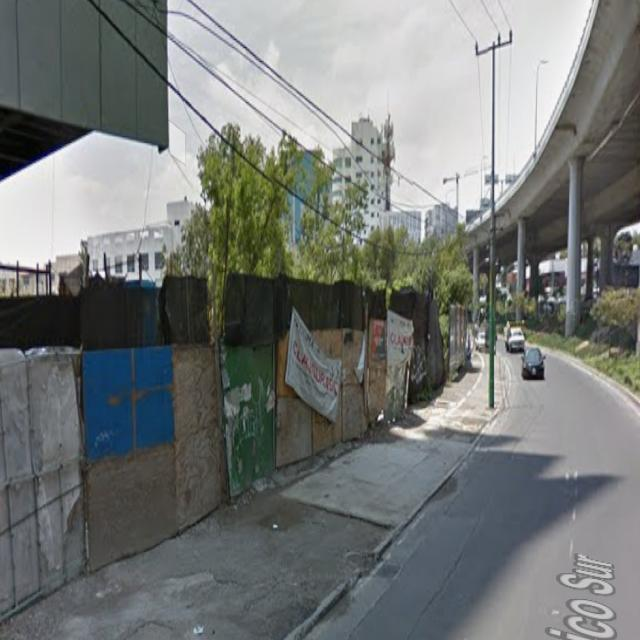stamps: (285, 307, 341, 421), (386, 309, 413, 366)
